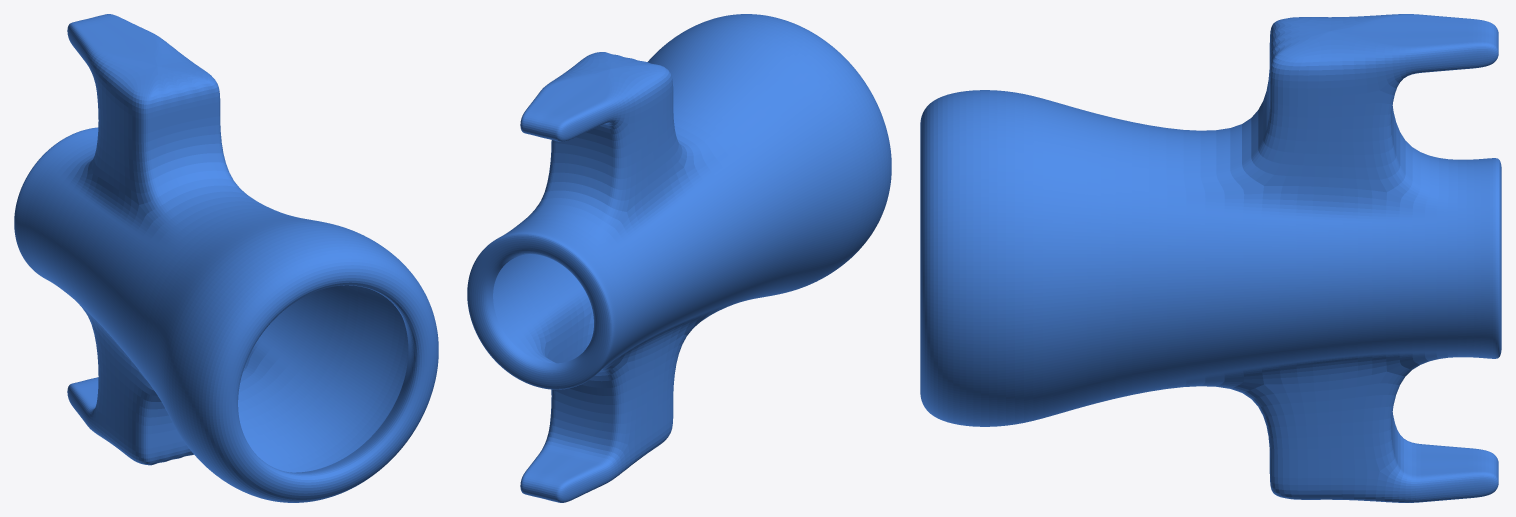
The model's file is ColumnPin.fbx.
The picture shows the model from 3 angles, left to right: view 1: azimuth 30°, elevation 25°; view 2: azimuth 150°, elevation 25°; view 3: azimuth 270°, elevation 25°; orthographic projection. The views are drawn at different scales.
Visible parts, largest first — view 1: Cylinder; view 2: Cylinder; view 3: Cylinder.
Boxes of the visible parts, x1=… form: Cylinder: x1=14, y1=14, x2=438, y2=502; Cylinder: x1=467, y1=14, x2=891, y2=502; Cylinder: x1=920, y1=14, x2=1501, y2=502.
Size of the model in its own units: 239 by 357 by 413.
